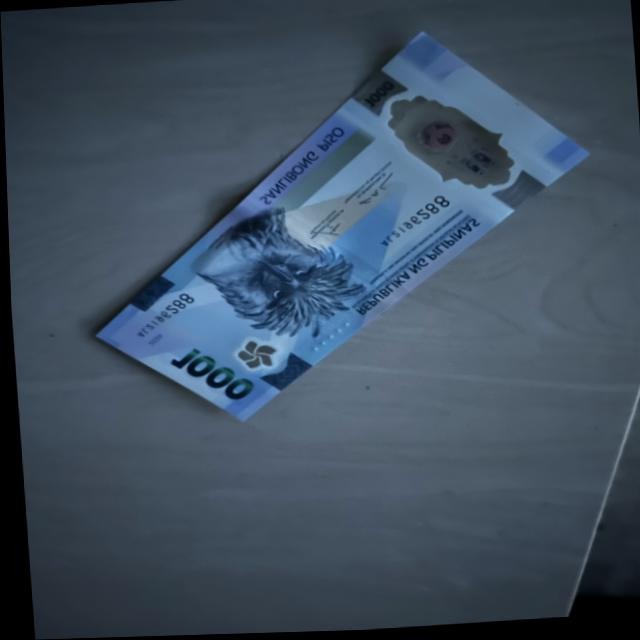clear_window: (384, 87, 521, 199)
eagle: (206, 213, 350, 349)
sampaguita: (230, 341, 275, 372)
